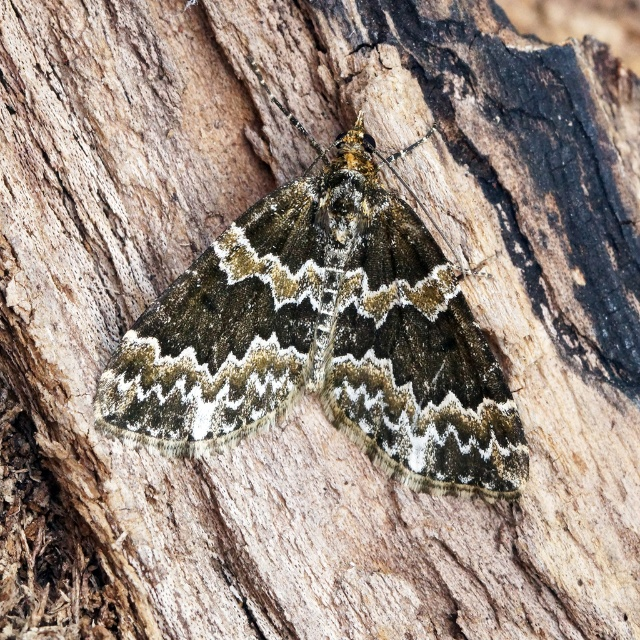Moths and butterflies: (87, 52, 532, 501)
